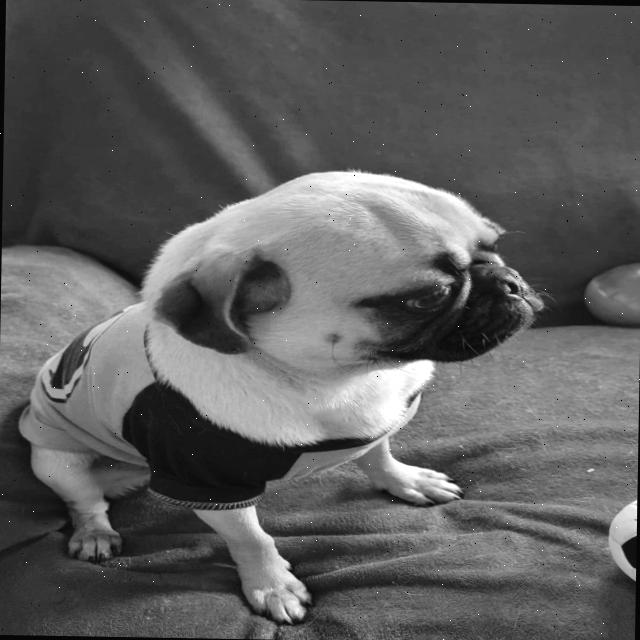pug_dog: (130, 161, 544, 388)
